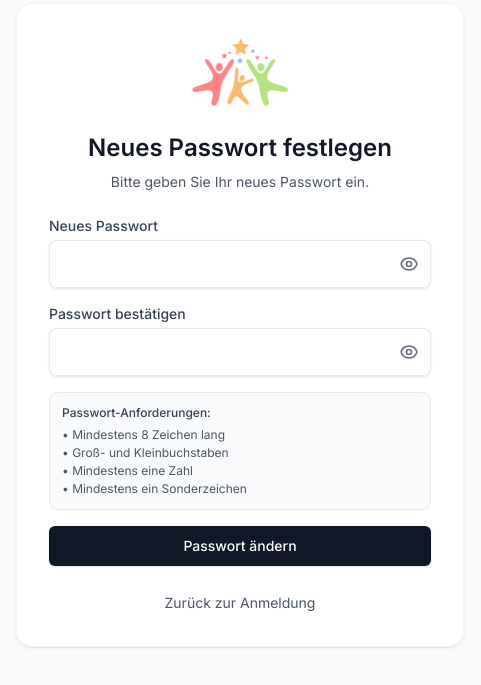
ResetPasswordPage › validates password length
The width and height of the screenshot is (481, 685).
Type "Short1!" into the password field labelled "Neues Passwort" at (240, 264), box x1=49 y1=240 x2=431 y2=288
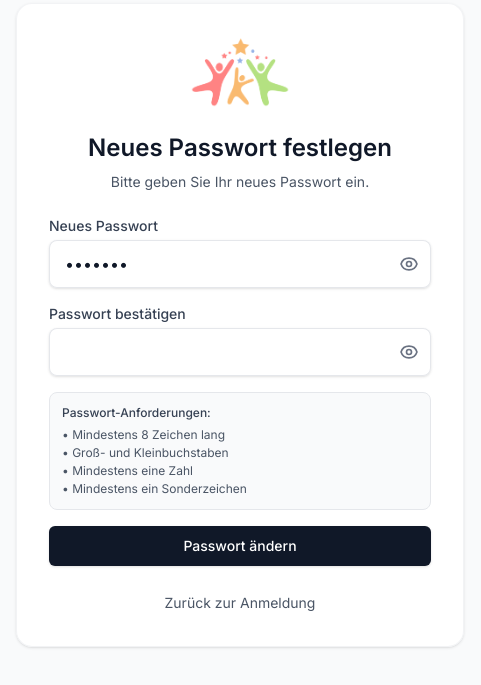
Type "Short1!" into the password field labelled "Passwort bestätigen" at (240, 352), box x1=49 y1=328 x2=431 y2=376
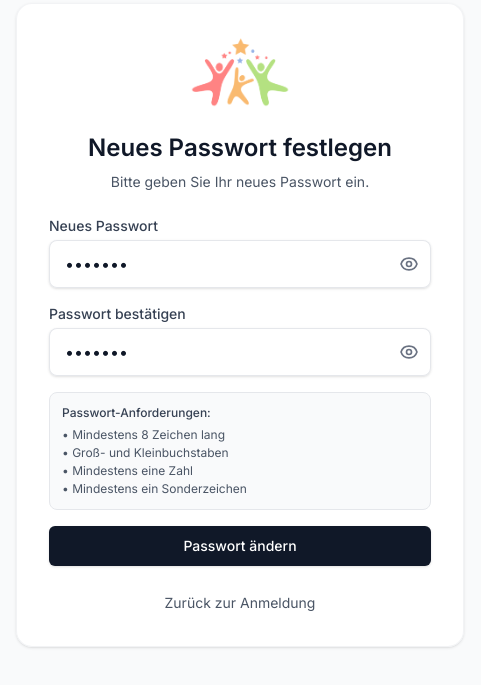
Click the button "Passwort ändern" at (240, 546), box x1=49 y1=526 x2=431 y2=566
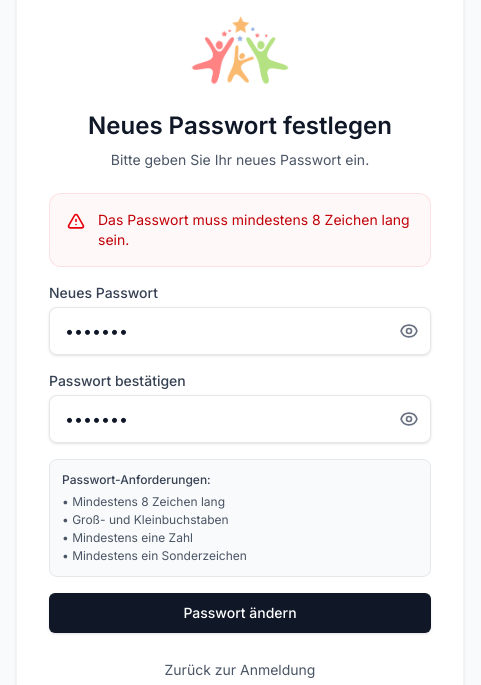
Expected: the text "Das Passwort muss mindestens 8 Zeichen lang sein." is shown, x1=98 y1=210 x2=414 y2=250
